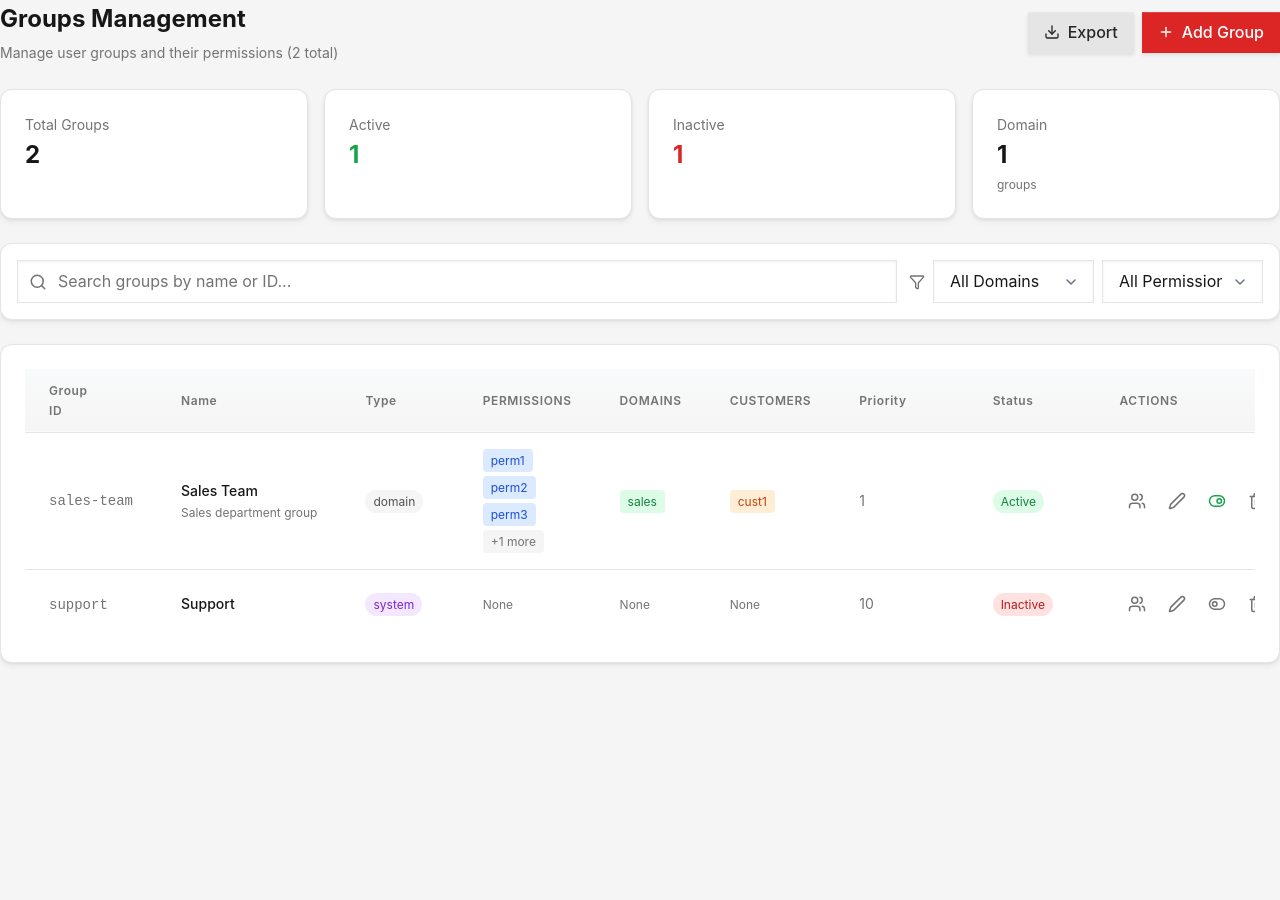
Scenario: GroupsManagement › handles create failure
Expected: the text "Sales Team" is shown, [181, 482, 258, 499]
Click the button "Add Group" at (1211, 32), box [1142, 12, 1279, 53]
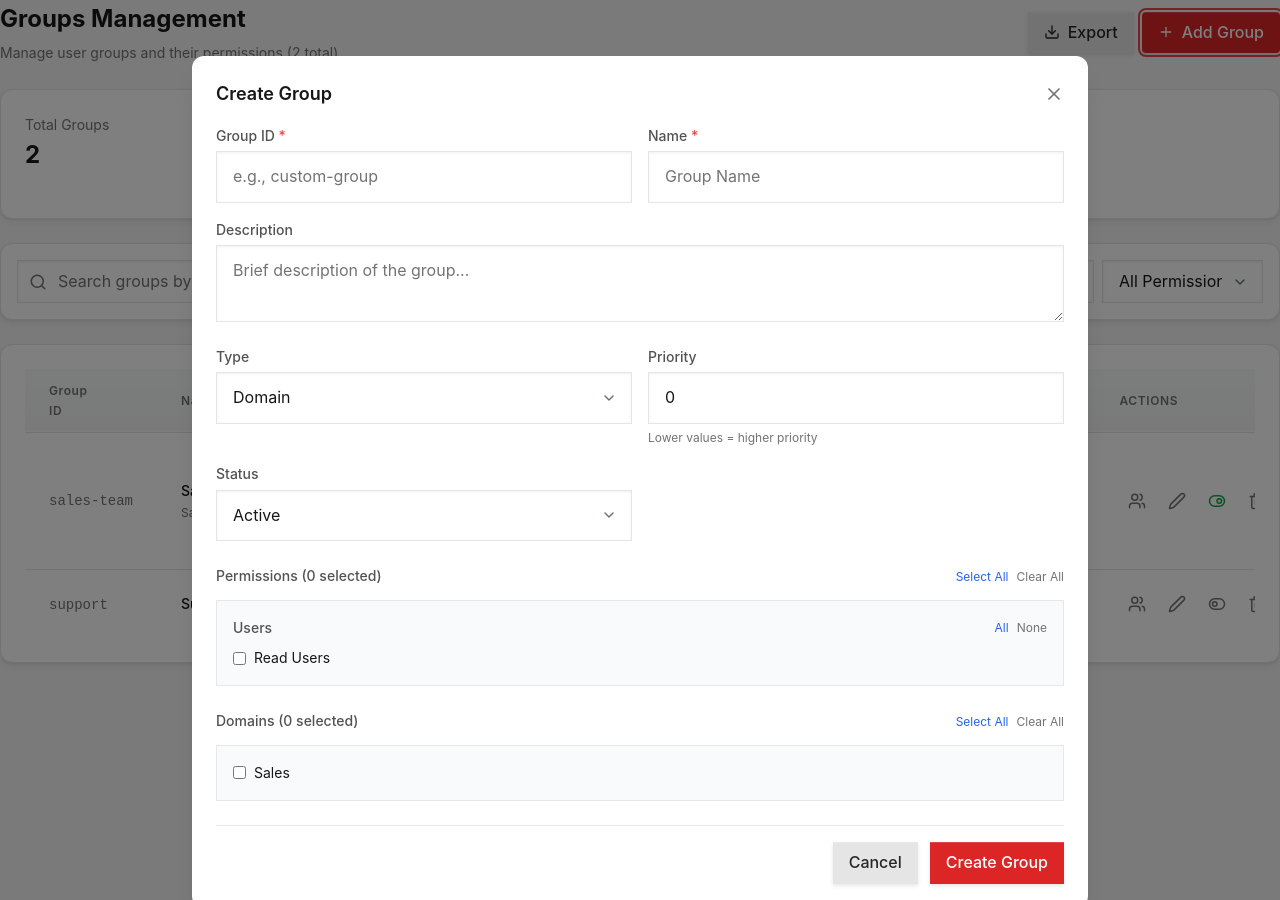
Submit the form, box [216, 125, 1064, 884]
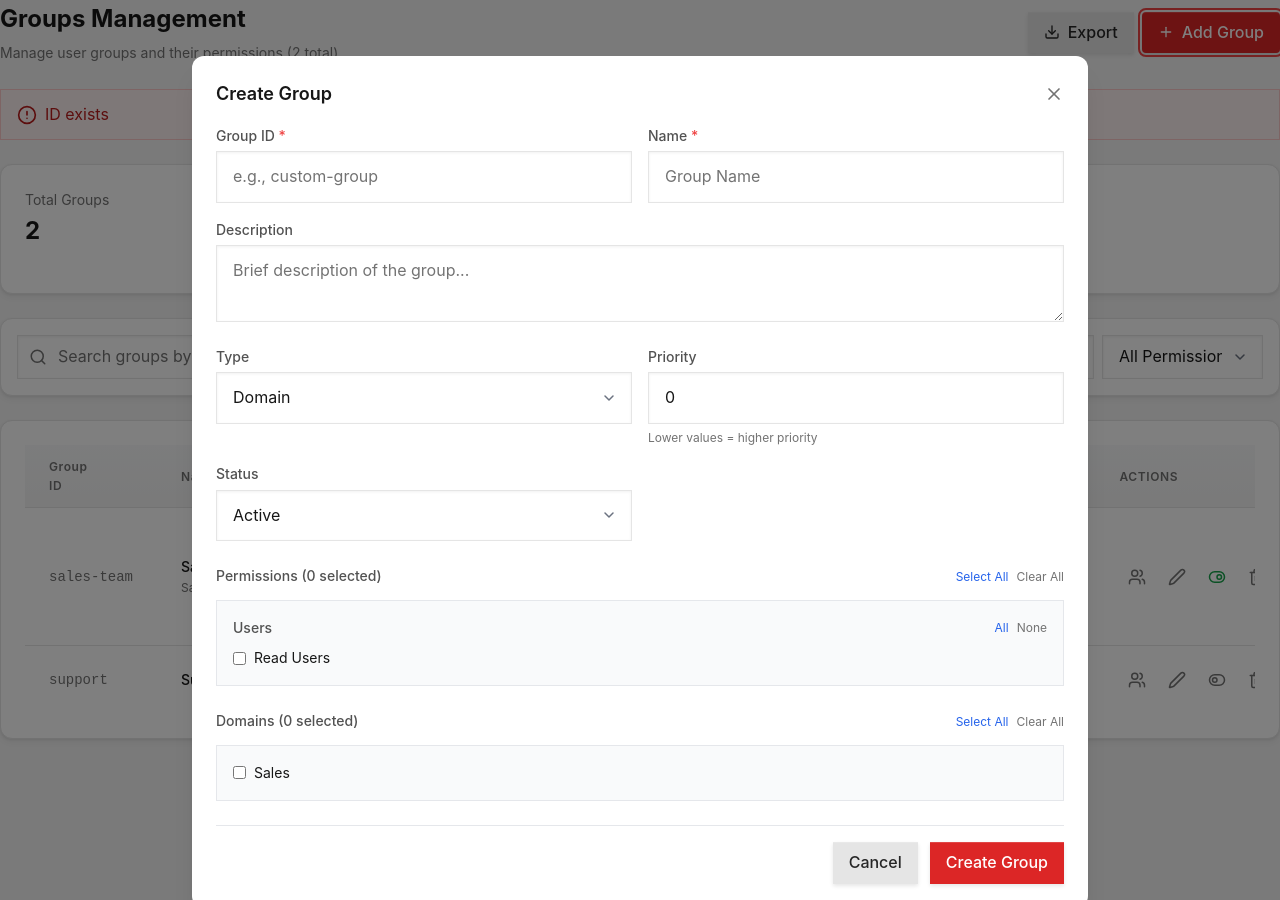
Expected: the text "ID exists" is shown, [0, 89, 1279, 140]
